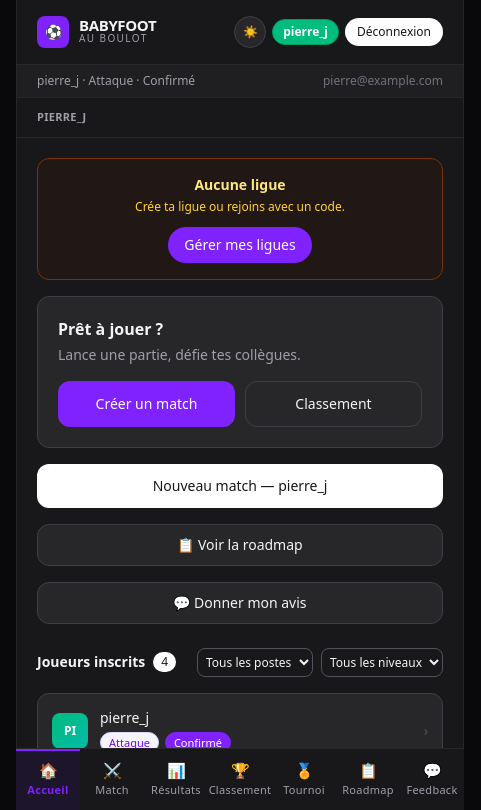
Test case: App intégration › Stats affiche classement et matchs
The image size is (481, 810).
Expected: the button "pierre_j" is shown, [272,19,339,45]
bottom nav Classement (ex-Stats, renommé en 684359c) — getAll car heading aussi "Classement"
What coordinates should you click on to do the following:
click the button "Classement"
I would click on:
 (334, 404)
Its box is [245,381,422,427].
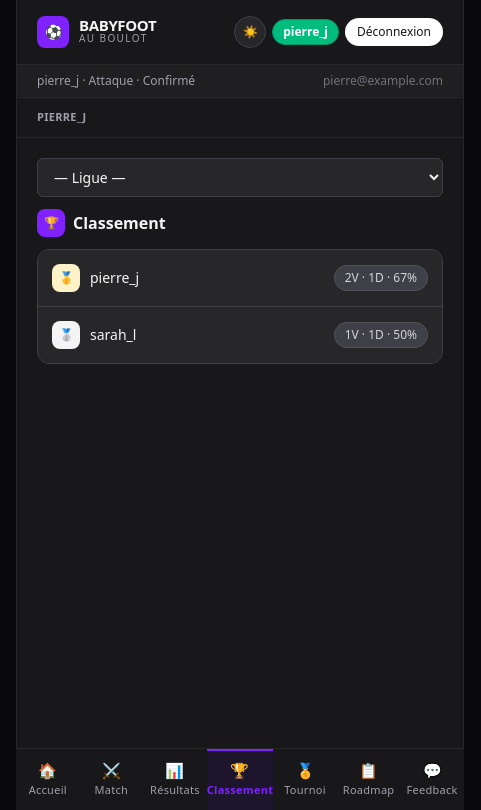
Expected: the text "2V · 1D · 67%" is shown, [334,265,428,291]
